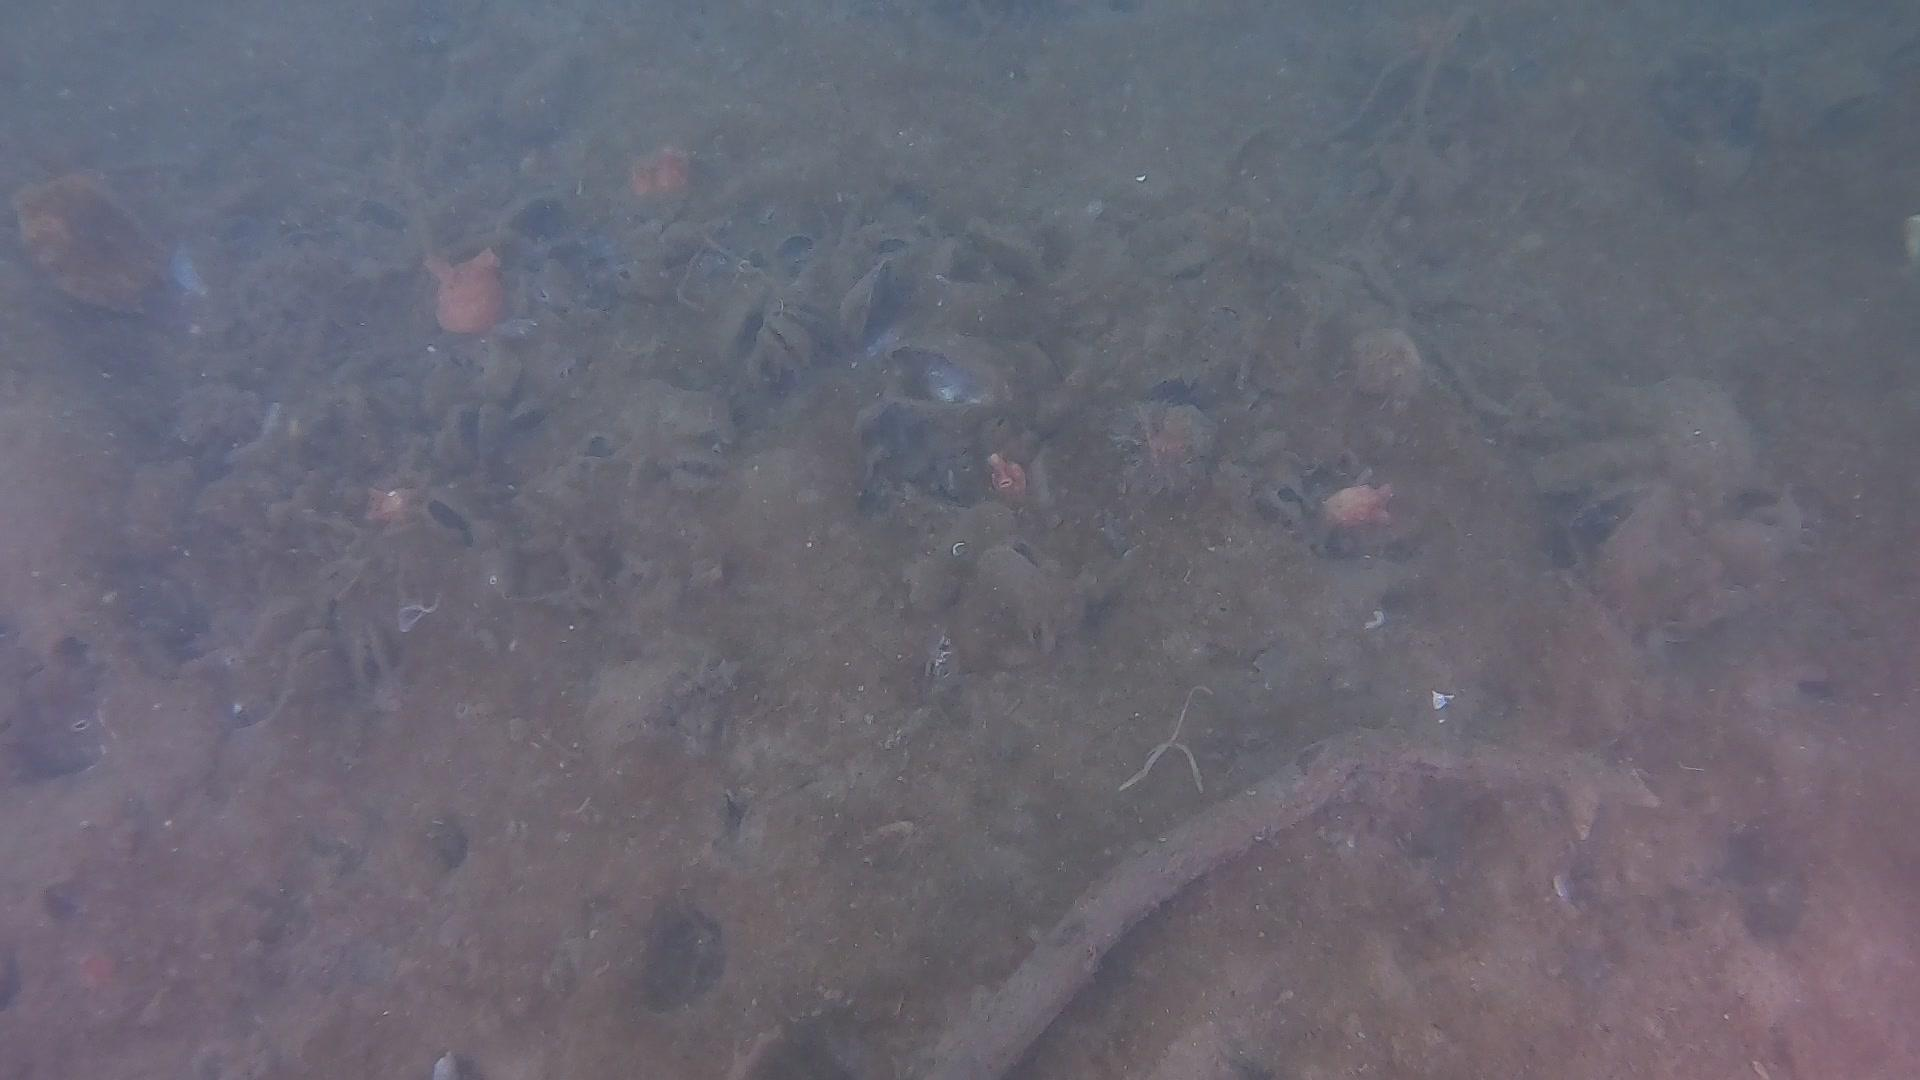wood: (905, 728, 1656, 1080)
